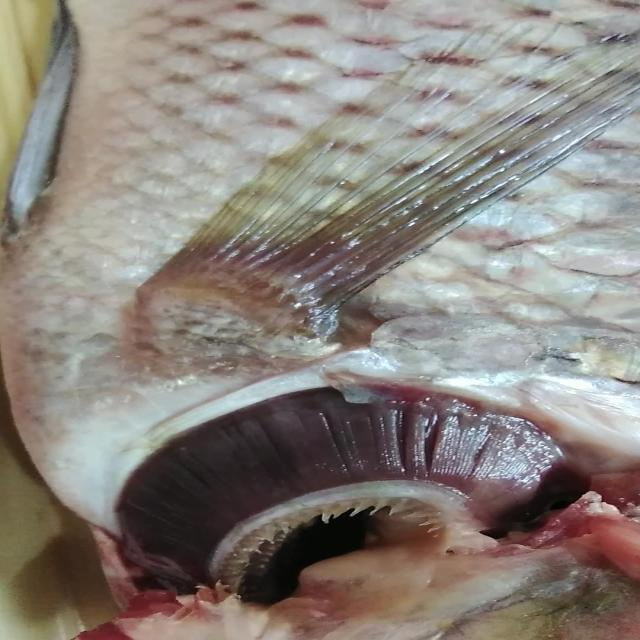Non-Fresh: (83, 386, 610, 606)
